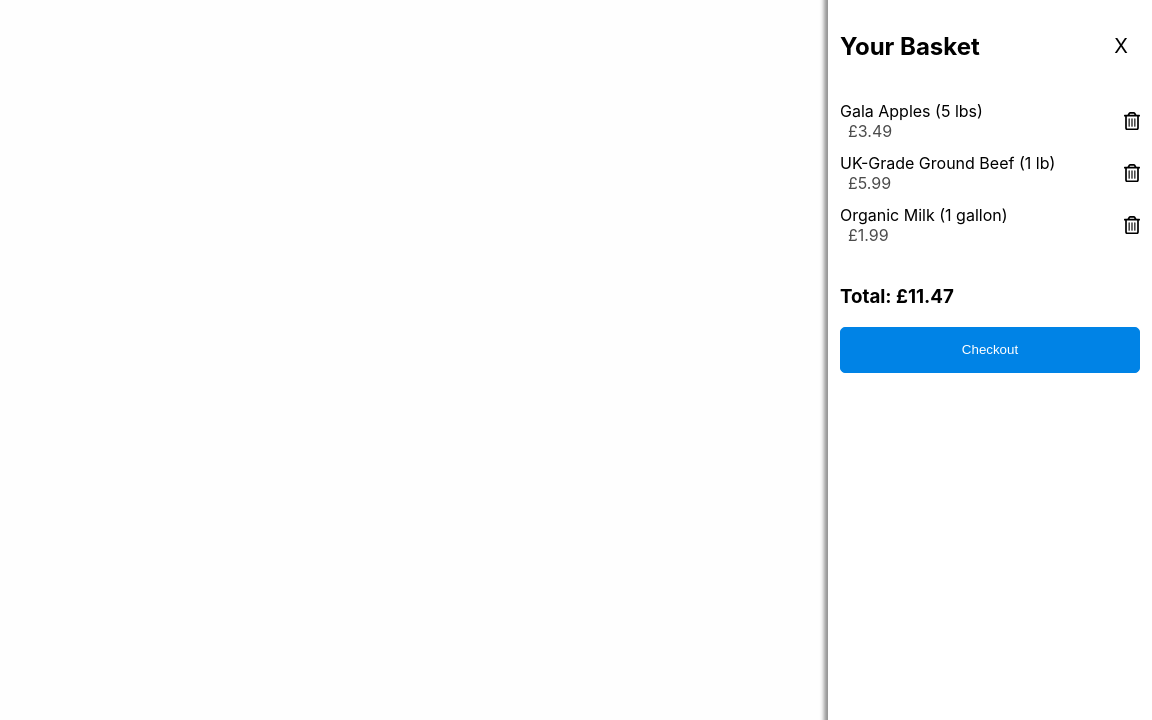
Scenario: Basket tests › removes a product when trash icon is clicked
This screenshot has width=1152, height=720.
Click the icon with test id "trash-btn" next to "Gala Apples (5 lbs)" at (1132, 121), box left=1124, top=112, right=1140, bottom=130
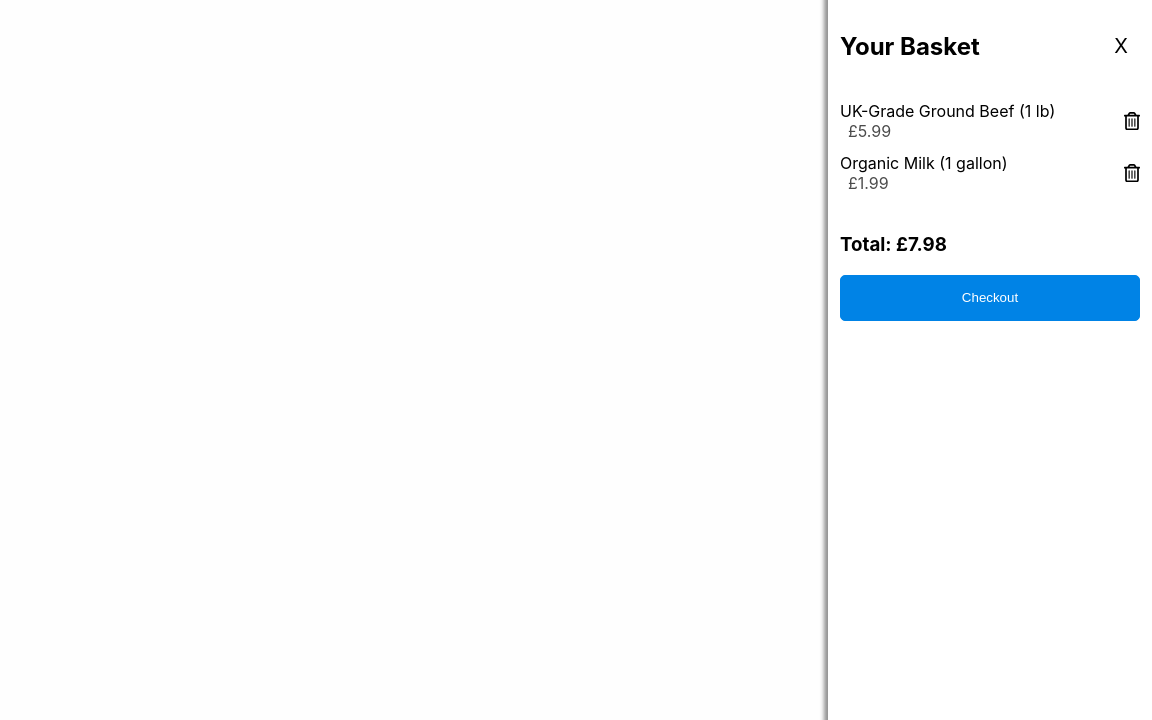
Now the text "Gala Apples (5 lbs)" is gone
